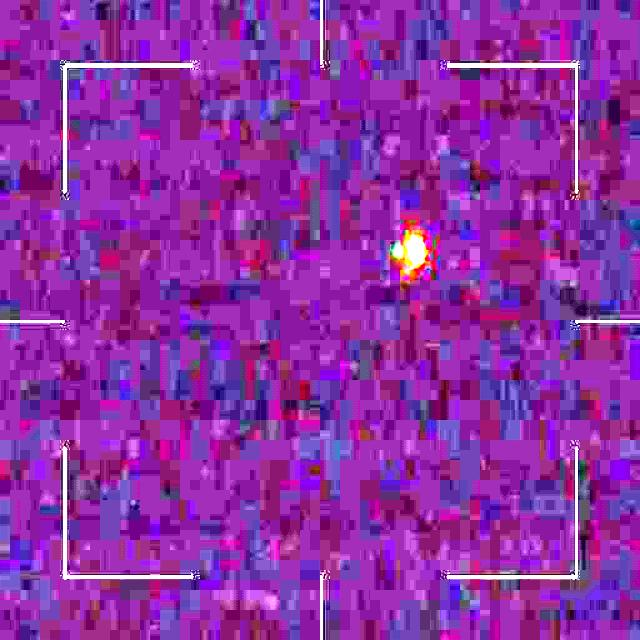bird: (390, 230, 426, 280)
